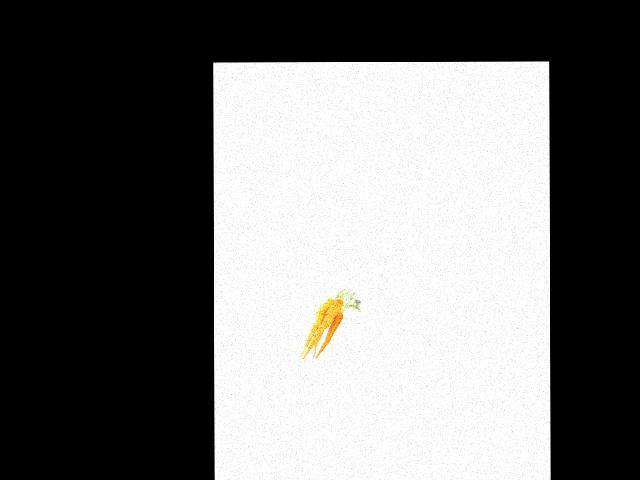carrot: (298, 295, 334, 358)
